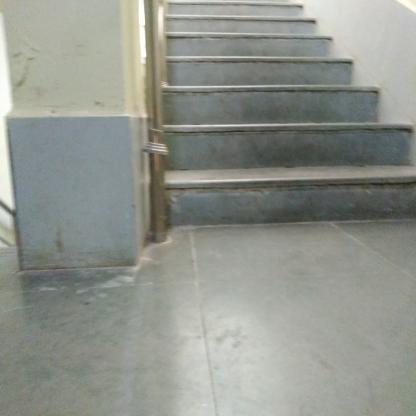stairs: (174, 14, 321, 237)
